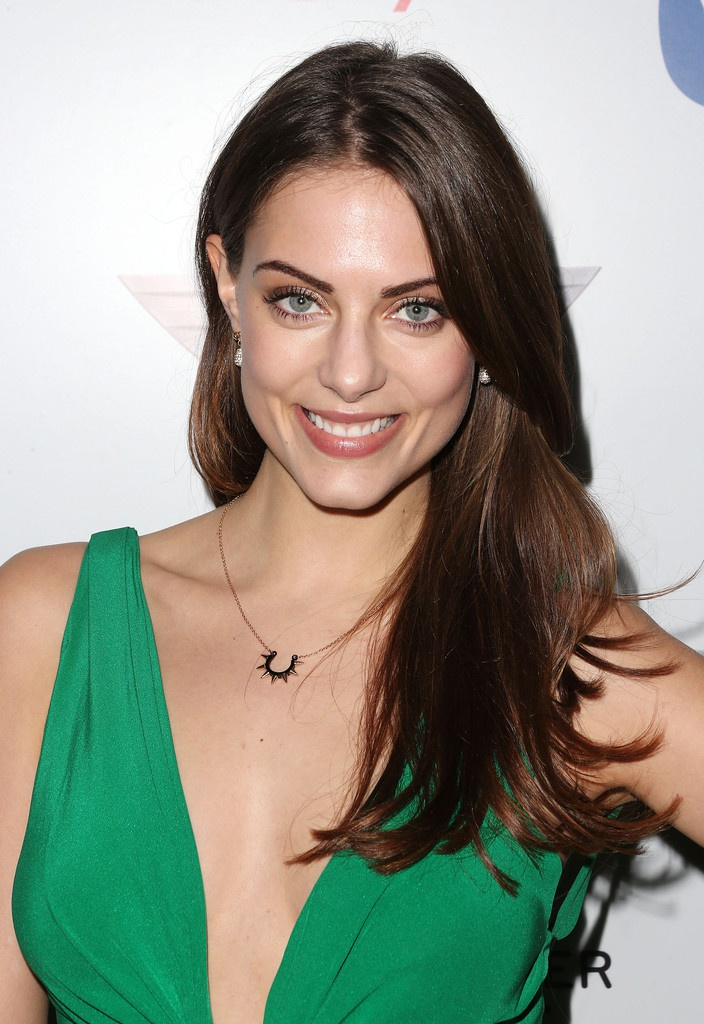bad: (230, 231, 498, 498)
